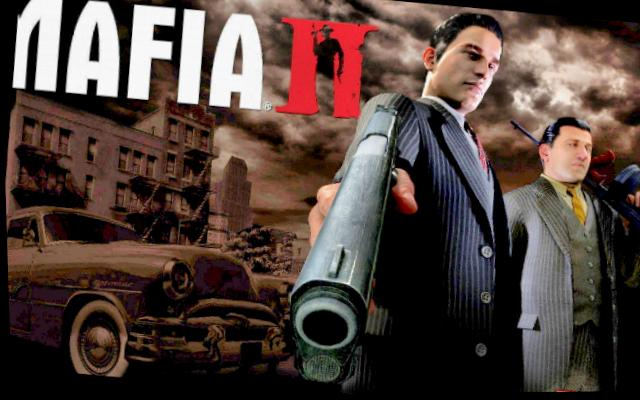pistol: (264, 85, 427, 384)
